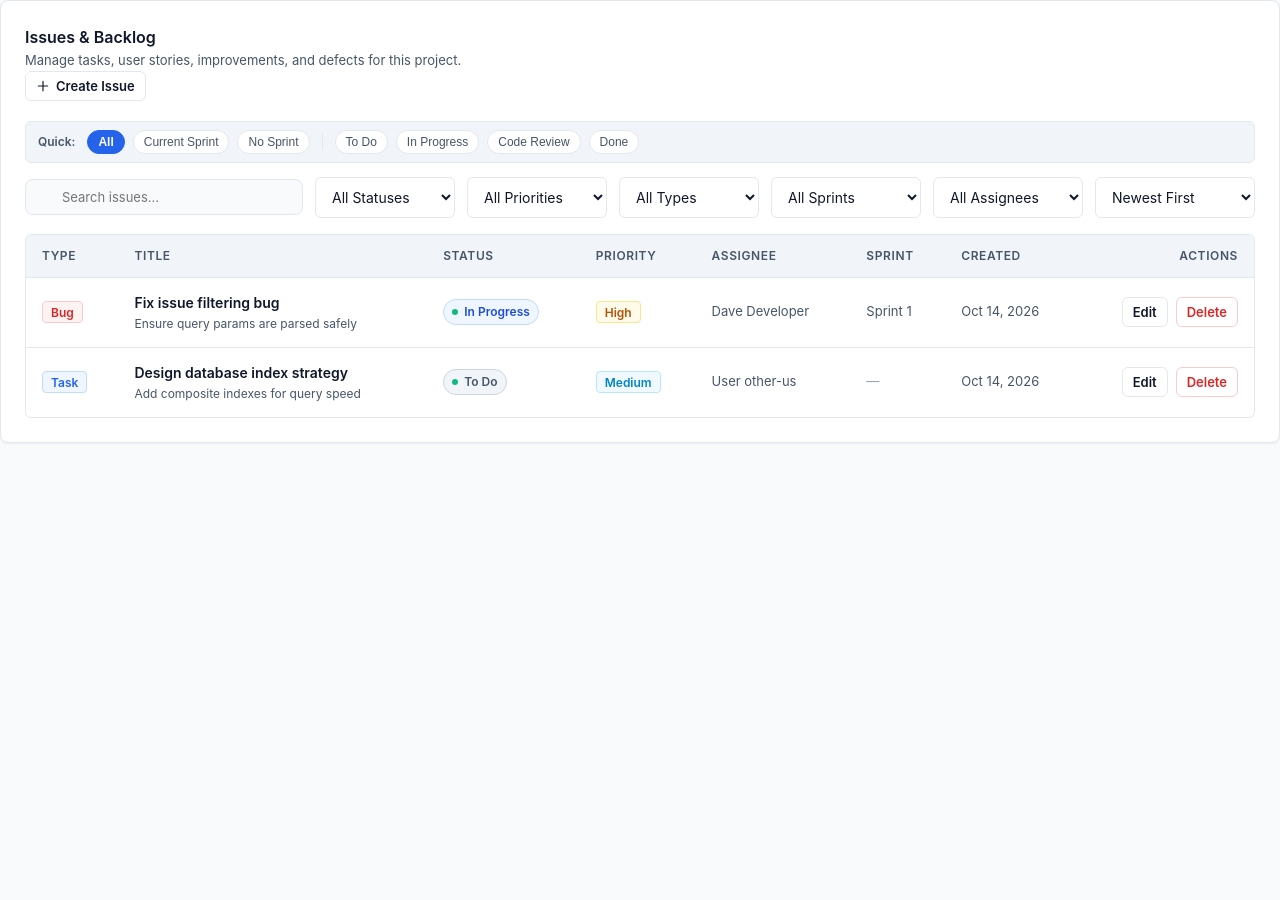
it: IssueList Component › opens edit modal, updates an issue, and refreshes the list
Expected: the link "Fix issue filtering bug" is shown, top-left (134, 294), bottom-right (280, 310)
Click the button with aria-label "Edit Fix issue filtering bug".
click(1145, 312)  # box top-left (1122, 297), bottom-right (1168, 327)
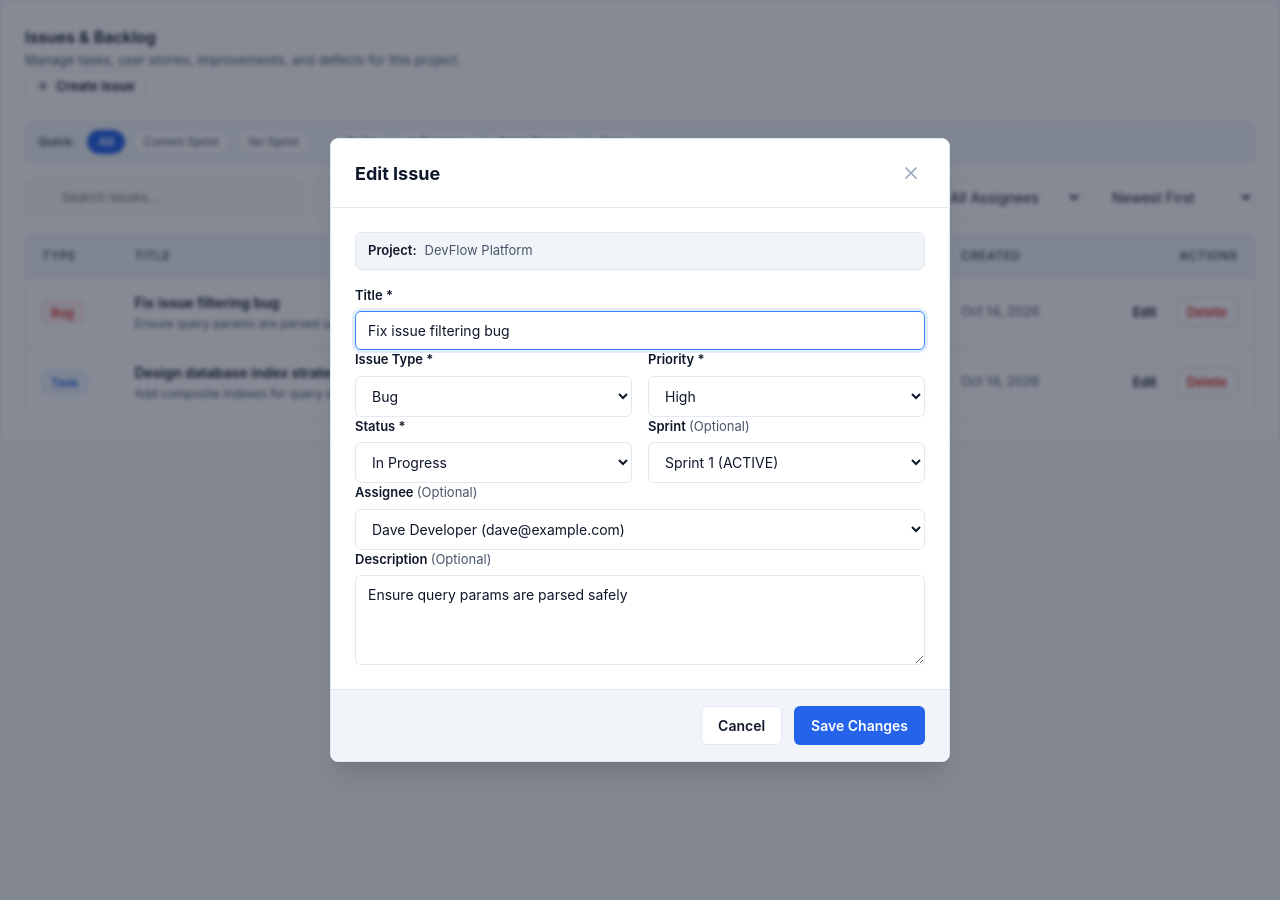
Result: the heading "Edit Issue" is shown at top-left (355, 160), bottom-right (440, 186)
Replace the text in the field labelled "Title *" with "Fix issue filtering bug updated" at (640, 330), box top-left (355, 311), bottom-right (925, 350)
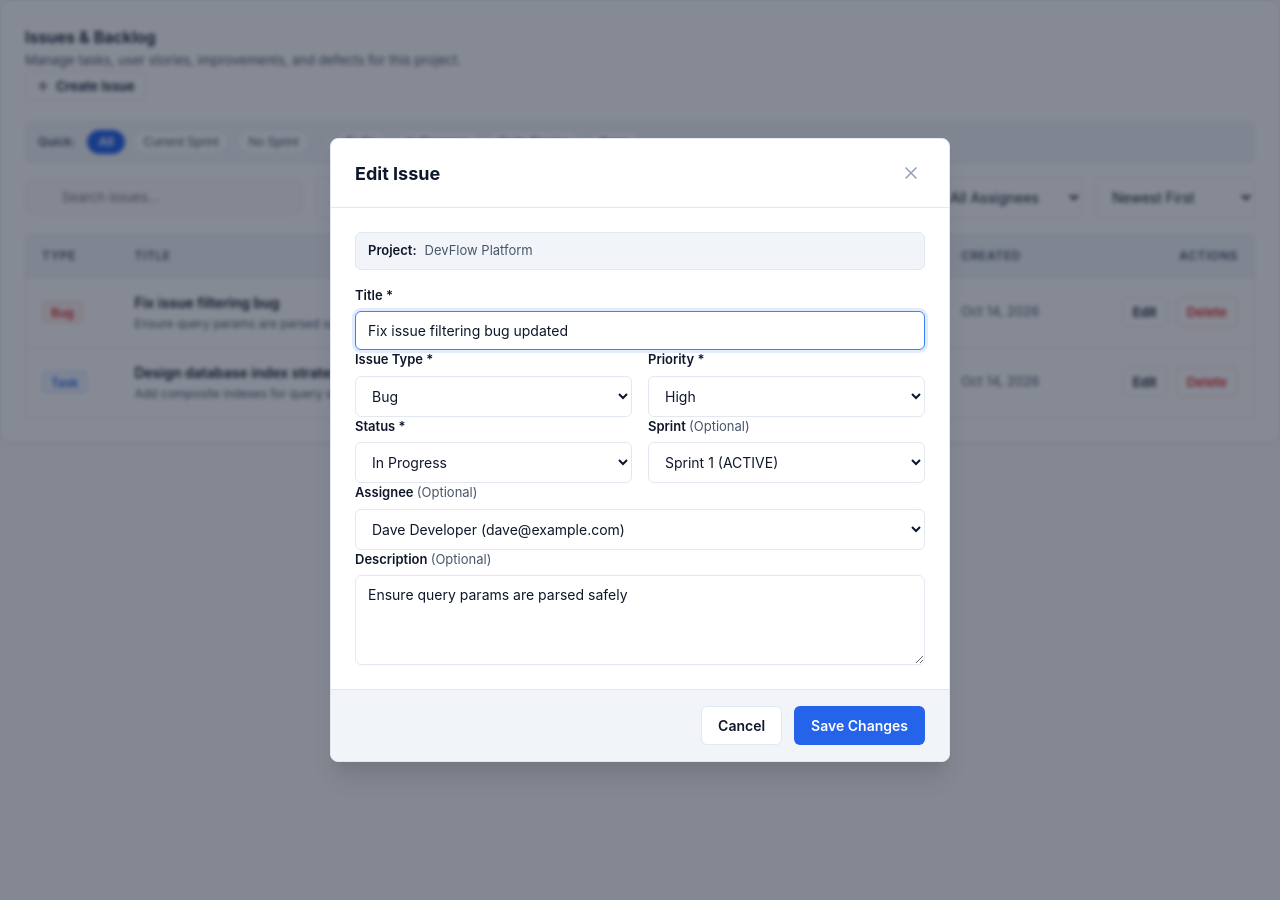
Click the button "Save Changes".
click(860, 726)  # box top-left (794, 706), bottom-right (925, 745)
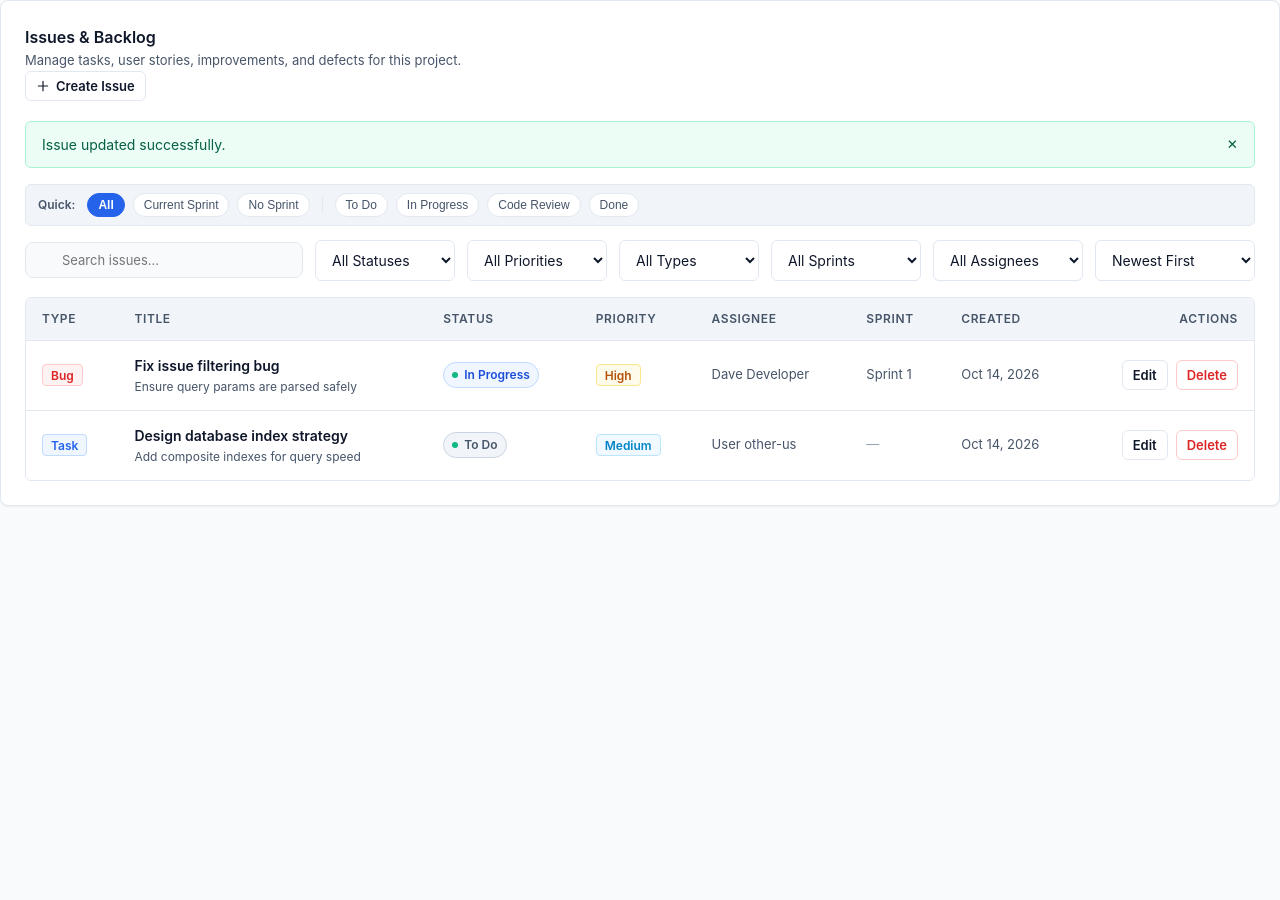
Result: the text "Issue updated successfully." is shown at top-left (42, 134), bottom-right (226, 154)
